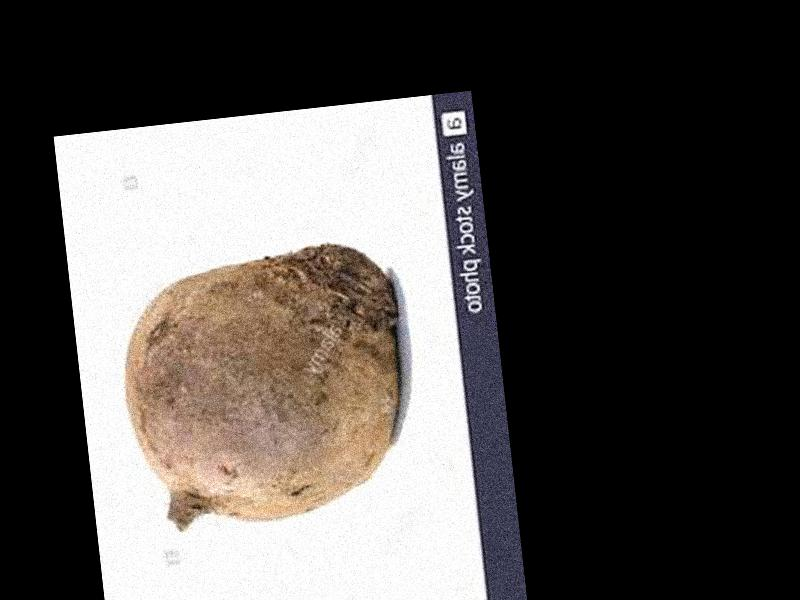Beet: (112, 239, 418, 536)
